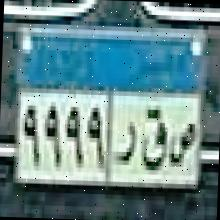9: (39, 97, 64, 172), (19, 95, 42, 172), (82, 103, 107, 171), (62, 103, 86, 171)
qaaf: (138, 102, 168, 171)
raa: (112, 115, 139, 172)
saad: (168, 117, 196, 174)
